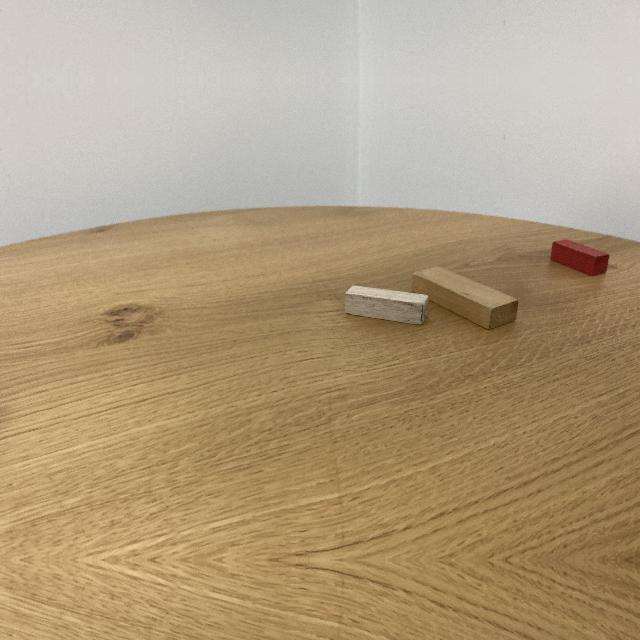block: (343, 286, 430, 326)
jenga: (411, 266, 519, 330)
red block: (550, 240, 610, 277)
